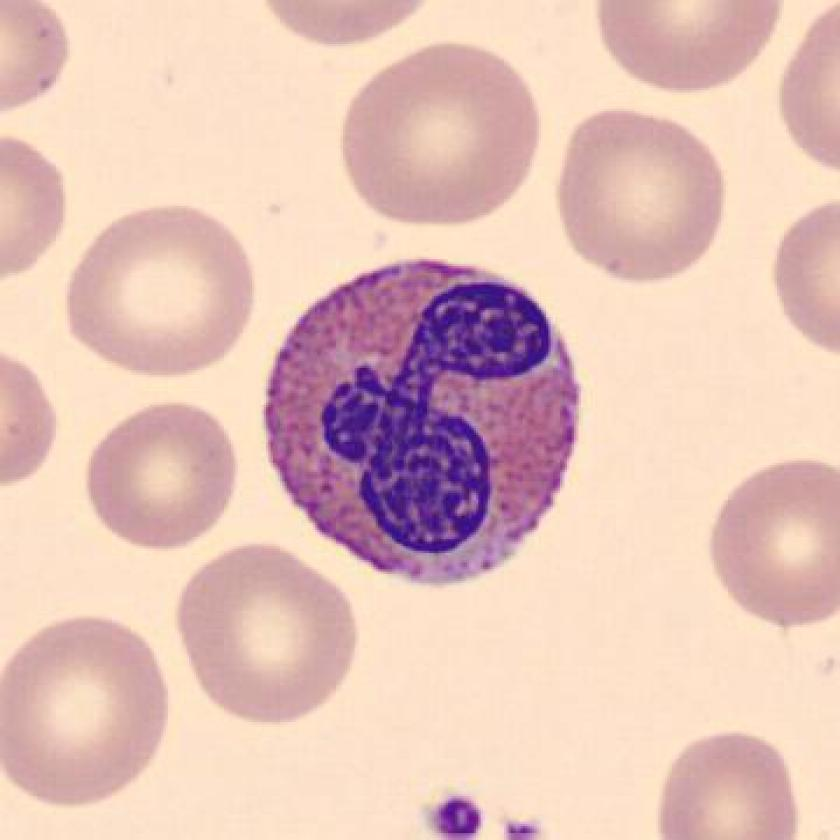eosinophil: (246, 242, 598, 610)
